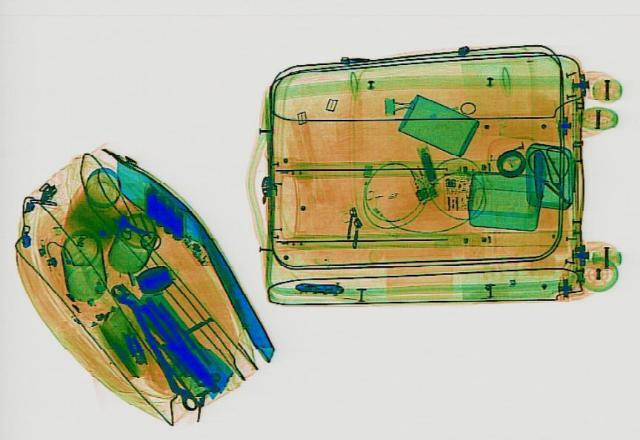Pliers: (139, 299, 223, 390)
Wrench: (104, 280, 204, 411)
